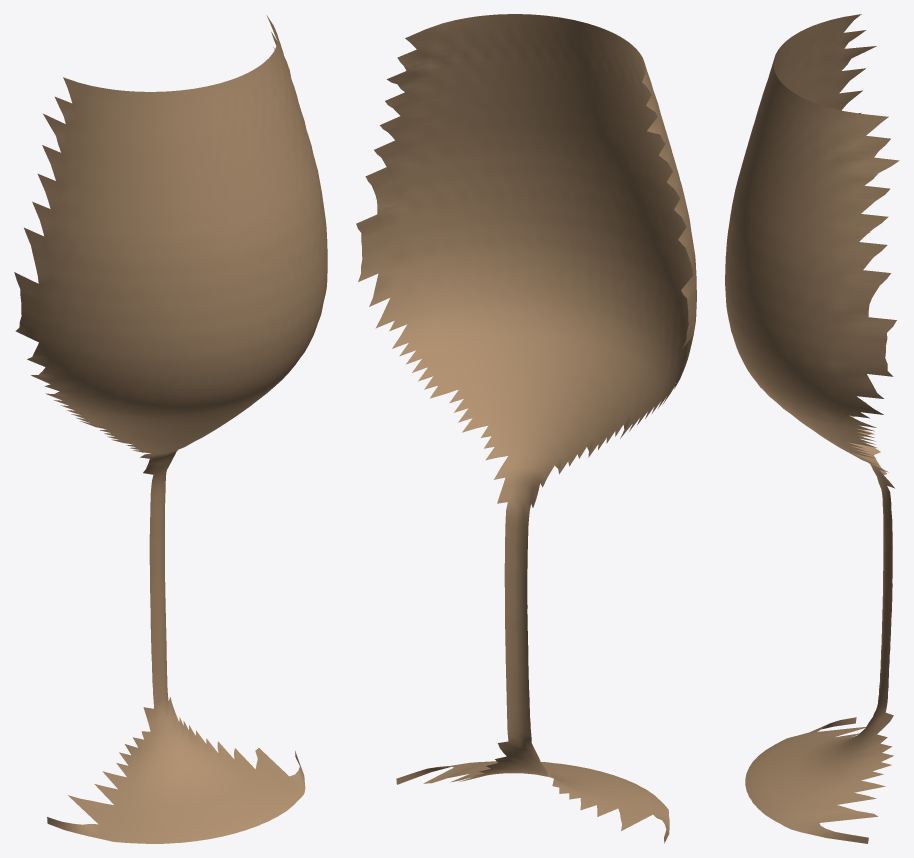
Rendered from wineglass.glb.
3 renders of one model, left to right at view 1: azimuth 30°, elevation 25°; view 2: azimuth 150°, elevation 25°; view 3: azimuth 270°, elevation 25°, orthographic. The views are drawn at different scales.
Visible parts, largest first — view 1: wineglass_20260114_mask; view 2: wineglass_20260114_mask; view 3: wineglass_20260114_mask.
Boxes of the visible parts, x1=… form: wineglass_20260114_mask: x1=14, y1=15, x2=327, y2=843; wineglass_20260114_mask: x1=356, y1=14, x2=696, y2=843; wineglass_20260114_mask: x1=725, y1=14, x2=899, y2=843.
Size of the model in its own units: 0.49 by 1.14 by 0.2515.
